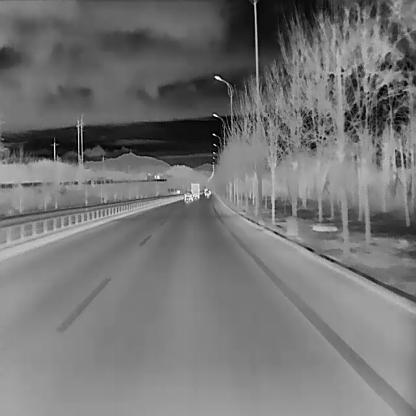car: (184, 190, 192, 202), (206, 192, 210, 197)
truck: (190, 182, 200, 198)
